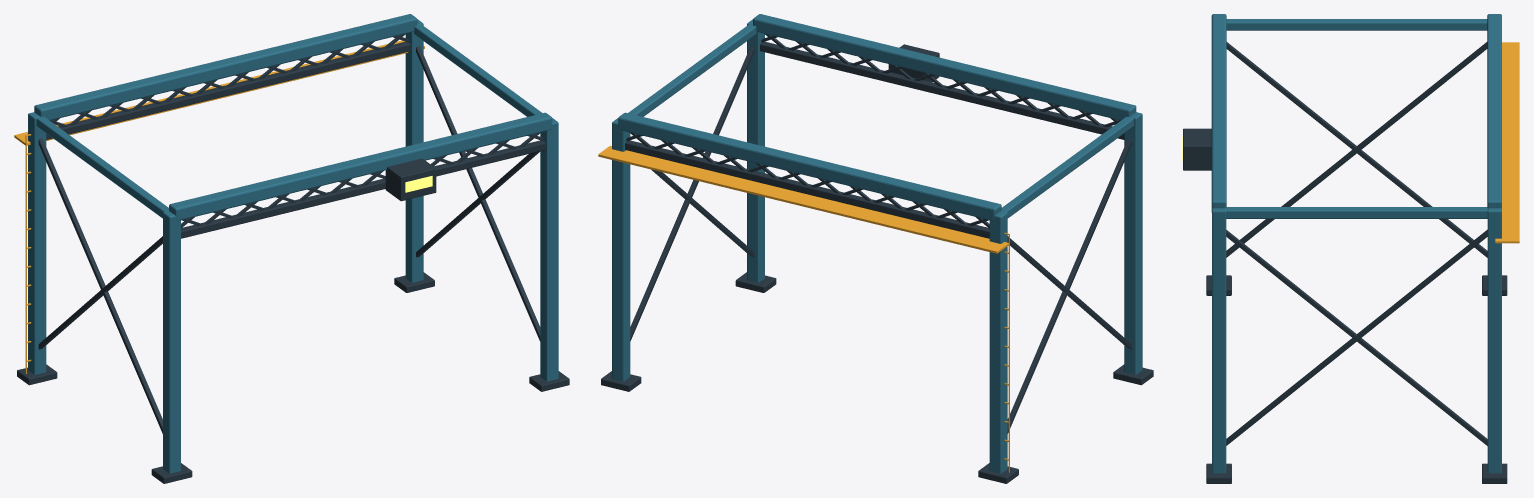
Rendered from gantry-frame-high.glb.
The picture shows the model from 3 angles, left to right: view 1: azimuth 30°, elevation 25°; view 2: azimuth 150°, elevation 25°; view 3: azimuth 270°, elevation 25°; orthographic projection. The views are drawn at different scales.
Parts seen in each view (by area): view 1: main_girder.001, main_girder, gantry_leg.002, gantry_leg, gantry_leg.001, lower_girder.001, gantry_leg.003, lower_girder, end_tie, end_cross_a, end_tie.001, end_cross_a.001 (+4 smaller); view 2: main_girder.001, main_girder, service_platform, gantry_leg.001, gantry_leg, gantry_leg.003, lower_girder.001, lower_girder, gantry_leg.002, end_tie, end_cross_b, end_tie.001 (+3 smaller); view 3: gantry_leg.002, gantry_leg.003, service_platform, end_tie, end_tie.001, main_girder, main_girder.001, end_cross_a.001, end_cross_b.001, end_cross_b, end_cross_a, operator_cabin (+2 smaller).
Boxes of the visible parts, bbox=[...] form: main_girder.001: bbox=[34, 14, 417, 120]; main_girder: bbox=[169, 112, 552, 220]; gantry_leg.002: bbox=[540, 118, 558, 381]; gantry_leg: bbox=[163, 211, 180, 473]; gantry_leg.001: bbox=[28, 112, 46, 374]; lower_girder.001: bbox=[46, 41, 410, 139]; gantry_leg.003: bbox=[405, 19, 423, 282]; lower_girder: bbox=[181, 140, 545, 238]; end_tie: bbox=[36, 116, 168, 218]; end_cross_a: bbox=[38, 138, 162, 433]; end_tie.001: bbox=[414, 24, 542, 116]; end_cross_a.001: bbox=[416, 46, 540, 341]; main_girder.001: bbox=[618, 112, 1001, 220]; main_girder: bbox=[753, 14, 1136, 120]; service_platform: bbox=[598, 145, 1008, 253]; gantry_leg.001: bbox=[989, 211, 1007, 473]; gantry_leg: bbox=[1124, 112, 1142, 374]; gantry_leg.003: bbox=[612, 118, 630, 381]; lower_girder.001: bbox=[625, 140, 989, 238]; lower_girder: bbox=[760, 41, 1124, 139]; gantry_leg.002: bbox=[747, 19, 764, 282]; end_tie: bbox=[1001, 116, 1133, 218]; end_cross_b: bbox=[1007, 138, 1131, 433]; end_tie.001: bbox=[628, 24, 756, 116]; gantry_leg.002: bbox=[1212, 208, 1226, 473]; gantry_leg.003: bbox=[1487, 208, 1501, 473]; service_platform: bbox=[1495, 42, 1519, 243]; end_tie: bbox=[1226, 19, 1487, 30]; end_tie.001: bbox=[1226, 207, 1487, 218]; main_girder: bbox=[1211, 14, 1226, 212]; main_girder.001: bbox=[1487, 14, 1501, 208]; end_cross_a.001: bbox=[1226, 229, 1487, 445]; end_cross_b.001: bbox=[1226, 230, 1487, 445]; end_cross_b: bbox=[1226, 42, 1487, 257]; end_cross_a: bbox=[1226, 42, 1487, 257]; operator_cabin: bbox=[1183, 128, 1211, 170].
Bounding box in the file's own units: 45.2 × 28.7 × 31.82.
